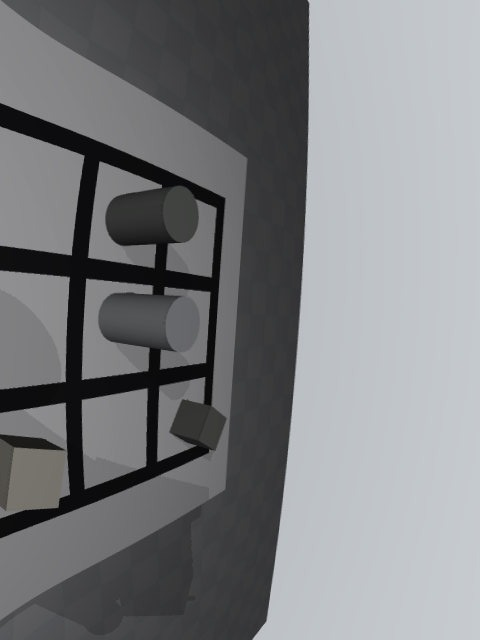can: (98, 293, 200, 352)
cube: (169, 399, 226, 451)
cylinder: (105, 186, 199, 246)
foam: (0, 434, 67, 512)
